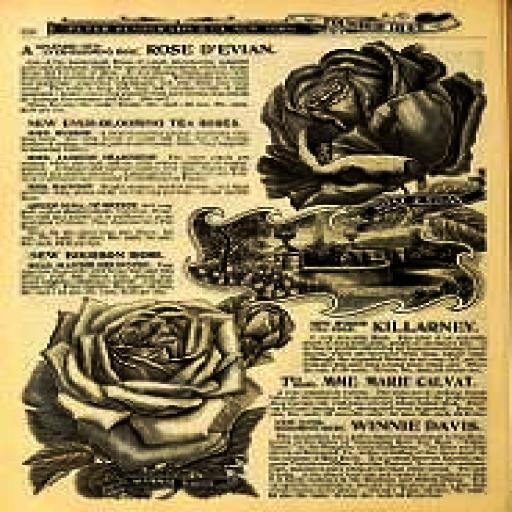rose: (22, 294, 269, 484), (260, 41, 487, 211)
